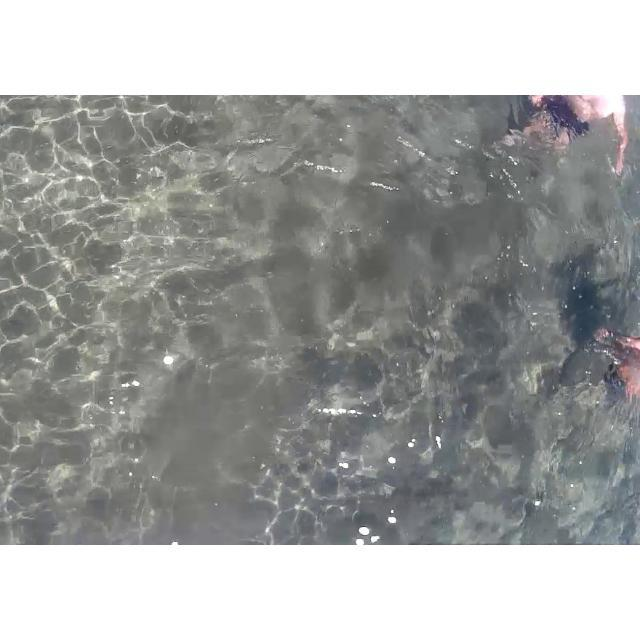human: (527, 95, 632, 185)
